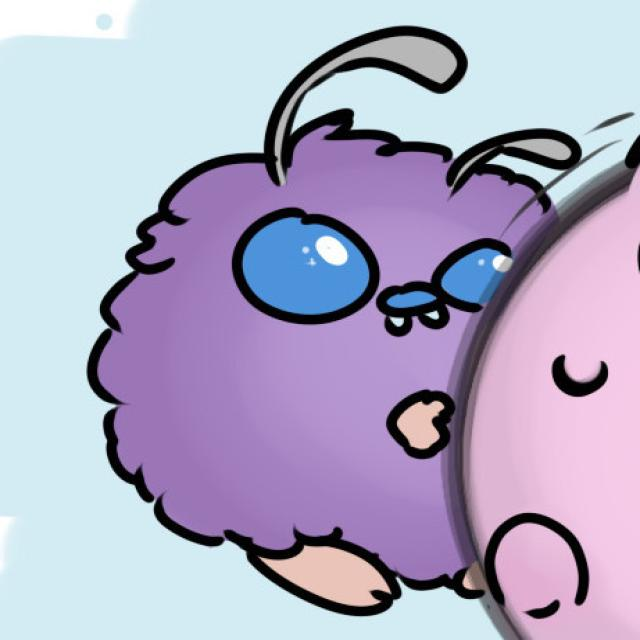Venonat: (131, 114, 579, 552)
